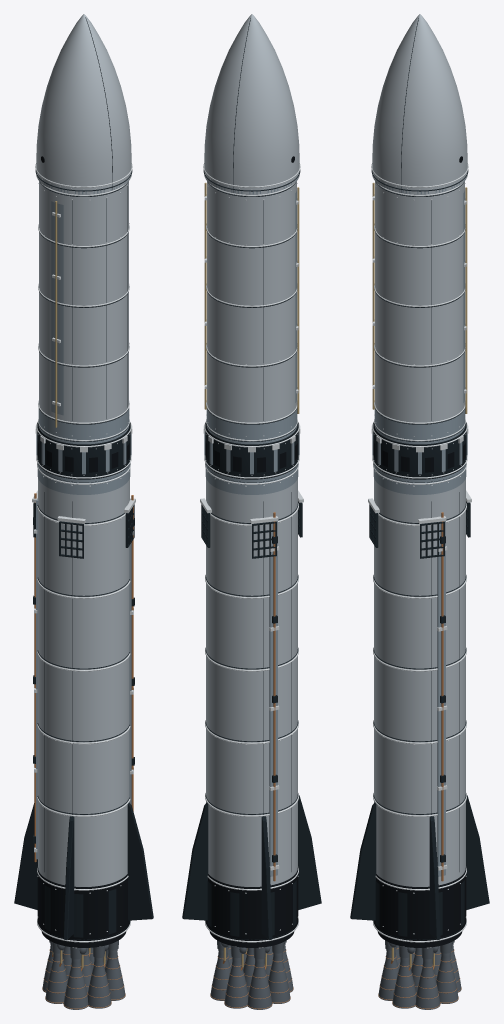
The model's file is launch-vehicle.glb.
3 views of the same model, side by side, from view 1: azimuth 30°, elevation 25°; view 2: azimuth 150°, elevation 25°; view 3: azimuth 330°, elevation 25° (orthographic).
Parts seen in each view (by area): view 1: booster__titanium, upperstage__titanium, fairing__titanium, booster__graphite, engines__engine_alloy, upperstage__titanium_panel, booster__heatshield, booster__titanium_panel, interstage__graphite, booster__polished_titanium, upperstage__graphite, booster__copper (+8 smaller); view 2: booster__titanium, upperstage__titanium, fairing__titanium, booster__graphite, engines__engine_alloy, booster__titanium_panel, booster__heatshield, interstage__graphite, booster__polished_titanium, upperstage__titanium_panel, upperstage__polished_titanium, upperstage__gold (+8 smaller); view 3: booster__titanium, upperstage__titanium, fairing__titanium, booster__graphite, engines__engine_alloy, booster__titanium_panel, booster__heatshield, interstage__graphite, booster__polished_titanium, upperstage__titanium_panel, upperstage__polished_titanium, upperstage__gold (+8 smaller).
Part boxes in pixels (bbox=[...]): booster__titanium: bbox=[38, 478, 129, 886]; upperstage__titanium: bbox=[39, 181, 128, 423]; fairing__titanium: bbox=[36, 14, 131, 194]; booster__graphite: bbox=[14, 464, 153, 940]; engines__engine_alloy: bbox=[42, 940, 125, 1009]; upperstage__titanium_panel: bbox=[38, 201, 129, 444]; booster__heatshield: bbox=[37, 867, 129, 942]; booster__titanium_panel: bbox=[36, 463, 131, 859]; interstage__graphite: bbox=[37, 422, 130, 479]; booster__polished_titanium: bbox=[32, 462, 135, 942]; upperstage__graphite: bbox=[39, 182, 128, 441]; booster__copper: bbox=[34, 493, 133, 862]; booster__titanium: bbox=[206, 478, 297, 886]; upperstage__titanium: bbox=[207, 181, 296, 423]; fairing__titanium: bbox=[204, 14, 299, 194]; booster__graphite: bbox=[182, 464, 321, 940]; engines__engine_alloy: bbox=[210, 940, 293, 1009]; booster__titanium_panel: bbox=[205, 463, 298, 876]; booster__heatshield: bbox=[206, 867, 298, 942]; interstage__graphite: bbox=[205, 422, 298, 479]; booster__polished_titanium: bbox=[200, 462, 303, 942]; upperstage__titanium_panel: bbox=[206, 190, 297, 444]; upperstage__polished_titanium: bbox=[204, 183, 298, 441]; upperstage__gold: bbox=[204, 182, 299, 413]; booster__titanium: bbox=[374, 478, 465, 886]; upperstage__titanium: bbox=[375, 181, 464, 423]; fairing__titanium: bbox=[372, 14, 467, 194]; booster__graphite: bbox=[350, 464, 489, 940]; engines__engine_alloy: bbox=[378, 940, 461, 1009]; booster__titanium_panel: bbox=[373, 463, 466, 876]; booster__heatshield: bbox=[374, 867, 466, 942]; interstage__graphite: bbox=[373, 422, 466, 479]; booster__polished_titanium: bbox=[368, 462, 471, 942]; upperstage__titanium_panel: bbox=[374, 190, 465, 444]; upperstage__polished_titanium: bbox=[372, 183, 466, 441]; upperstage__gold: bbox=[372, 182, 467, 413].
Size of the model in its own units: 1.09 by 11.3 by 1.09.
